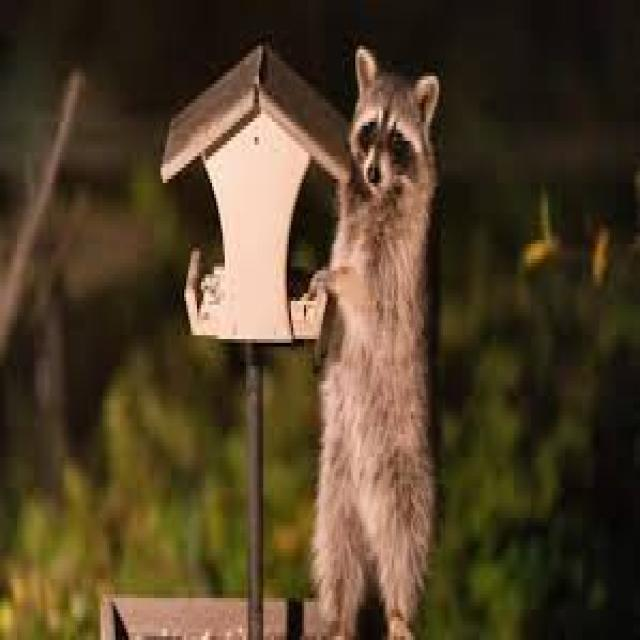Raccoon: (294, 36, 449, 635)
